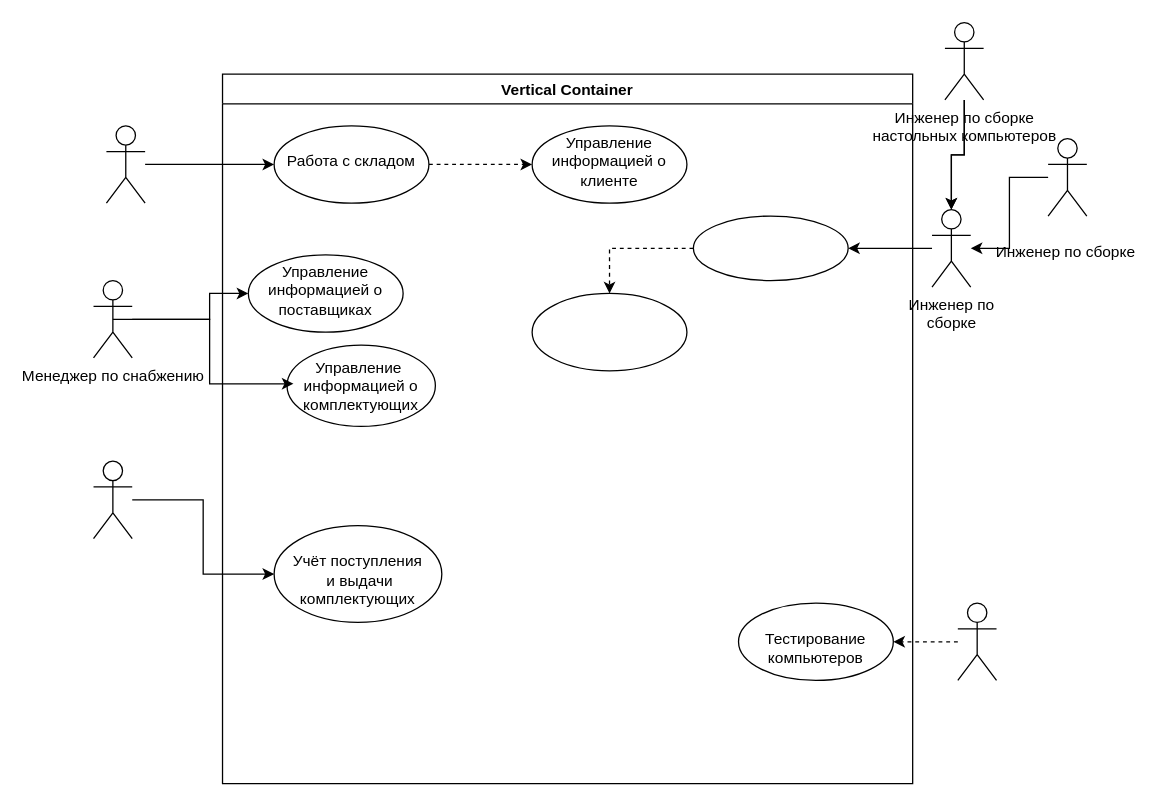
Image size: 1161x806. Some labels were removed from this diagram. The box of each missing label's shape, as (x1, y1, x2, y2) in pixels:
Завскладом: (92, 460, 132, 539)
Инженер по тестированию: (957, 602, 997, 680)
Менеджер по работе с клиентами: (105, 124, 145, 203)
Сборка компьютеров: (692, 215, 848, 281)
Требование необходимых комплектующих: (531, 292, 687, 371)
